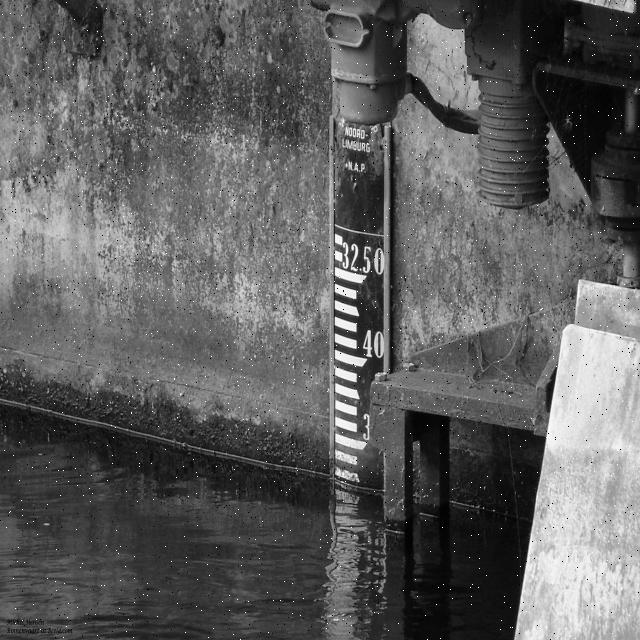staff: (328, 119, 393, 501)
